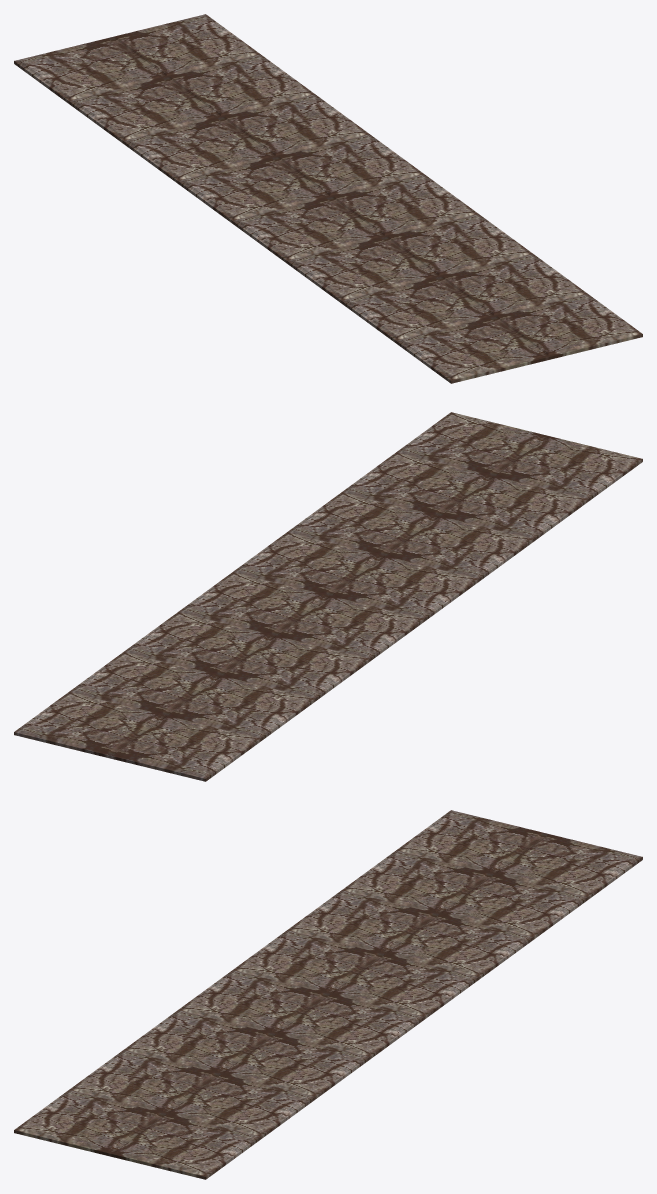
Rendered from walkplane_0_b.FBX.
3 views of the same model, one above another, from view 1: azimuth 30°, elevation 25°; view 2: azimuth 150°, elevation 25°; view 3: azimuth 330°, elevation 25° (orthographic).
Parts seen in each view (by area): view 1: walkplane_90_b; view 2: walkplane_90_b; view 3: walkplane_90_b.
Part boxes in pixels (bbox=[...]): walkplane_90_b: bbox=[14, 14, 642, 383]; walkplane_90_b: bbox=[14, 412, 642, 781]; walkplane_90_b: bbox=[14, 810, 642, 1179].
Bounding box in the file's own units: 4 × 15.79 × 0.0857.
